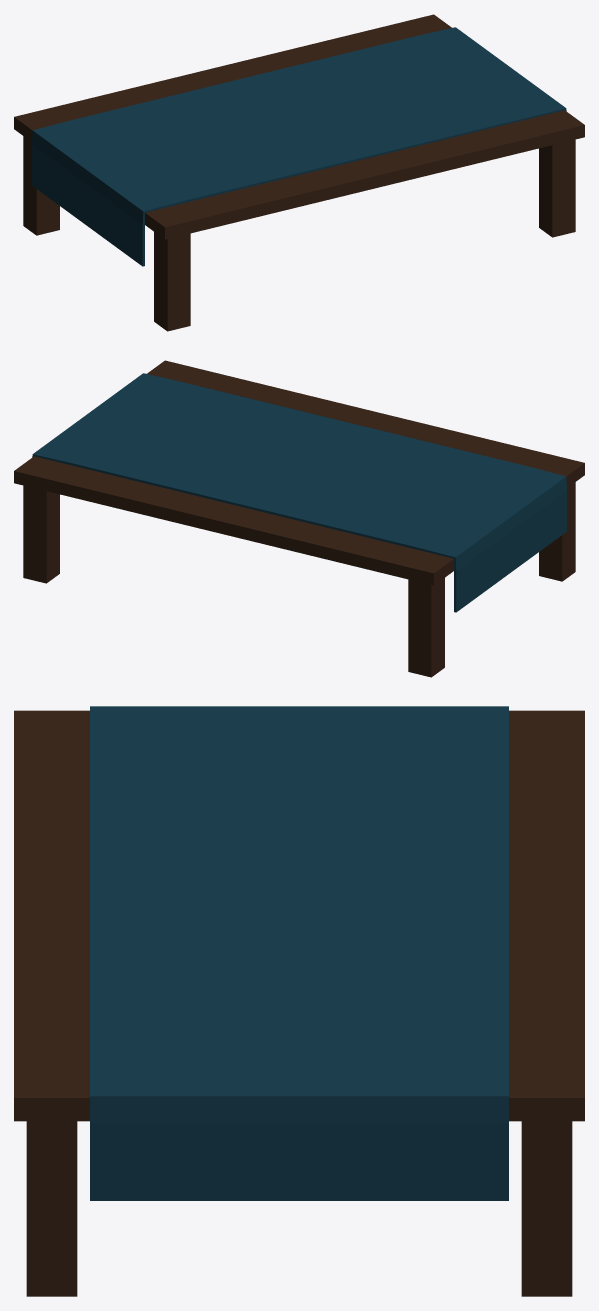
Rendered from EssTisch.fbx.
3 renders of one model, top to bottom at view 1: azimuth 30°, elevation 25°; view 2: azimuth 150°, elevation 25°; view 3: azimuth 270°, elevation 25°, orthographic. The views are drawn at different scales.
Parts seen in each view (by area): view 1: Cube.001; view 2: Cube.001; view 3: Cube.001.
Part boxes in pixels (x1,y1,x2,y2): Cube.001: (14,14,584,331); Cube.001: (14,360,584,677); Cube.001: (14,706,584,1296).
Size of the model in its own units: 1295 by 322 by 799.
